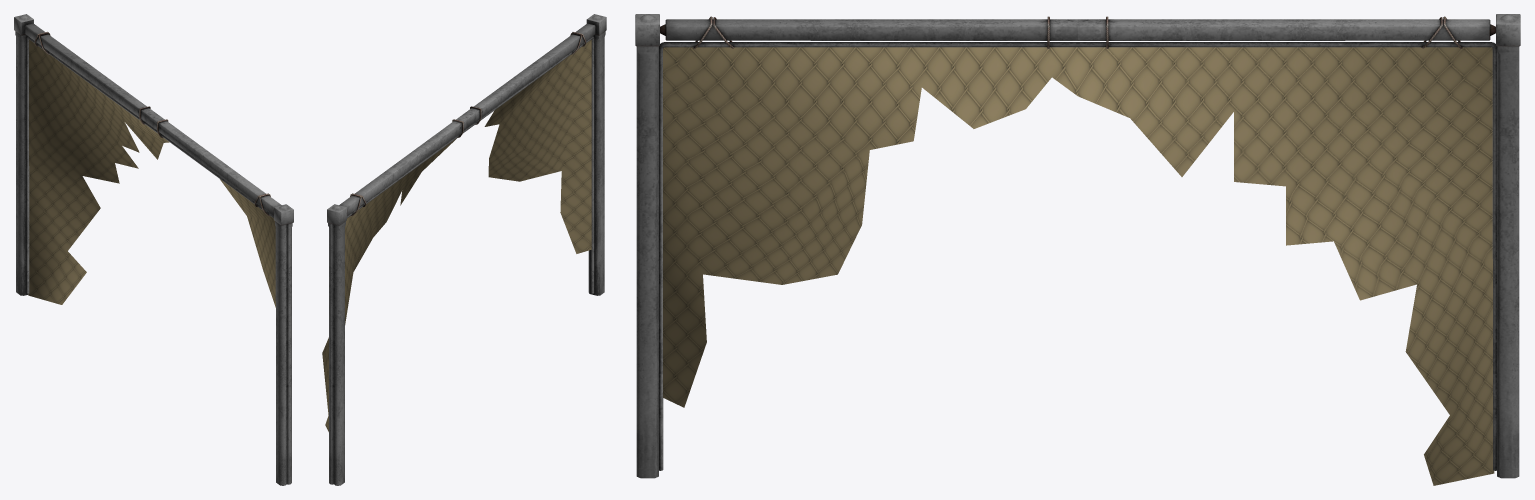
File: fencing_pplant_broken.dae
3 views of the same model, side by side, from view 1: azimuth 30°, elevation 25°; view 2: azimuth 150°, elevation 25°; view 3: azimuth 270°, elevation 25° (orthographic). The views are drawn at different scales.
Visible parts, largest first — view 1: Chainlink, low; view 2: Chainlink, low; view 3: Chainlink, low.
Boxes of the visible parts, left/top/right/bottom form: Chainlink: left=28, top=39, right=275, bottom=307; low: left=14, top=14, right=293, bottom=485; Chainlink: left=322, top=39, right=591, bottom=431; low: left=327, top=14, right=606, bottom=485; Chainlink: left=663, top=47, right=1494, bottom=485; low: left=635, top=14, right=1520, bottom=478.
Bounding box in the file's own units: 0.493 × 2.27 × 3.98.
